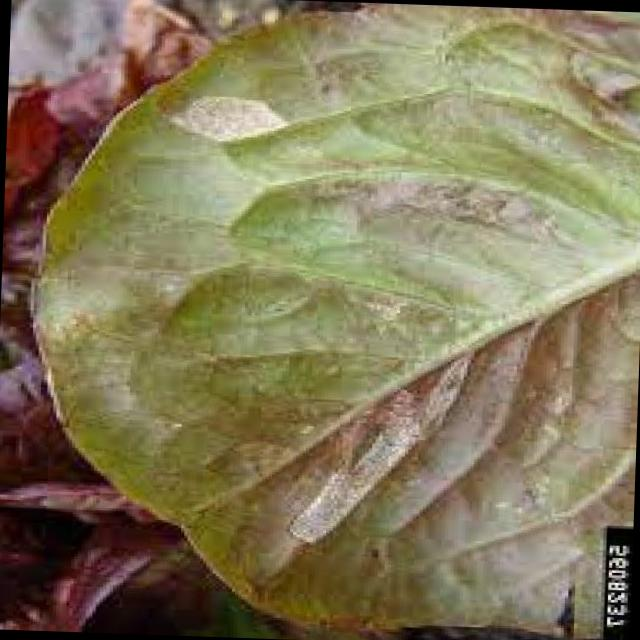Downy_Mildew: (325, 382, 412, 555), (177, 80, 311, 148)
